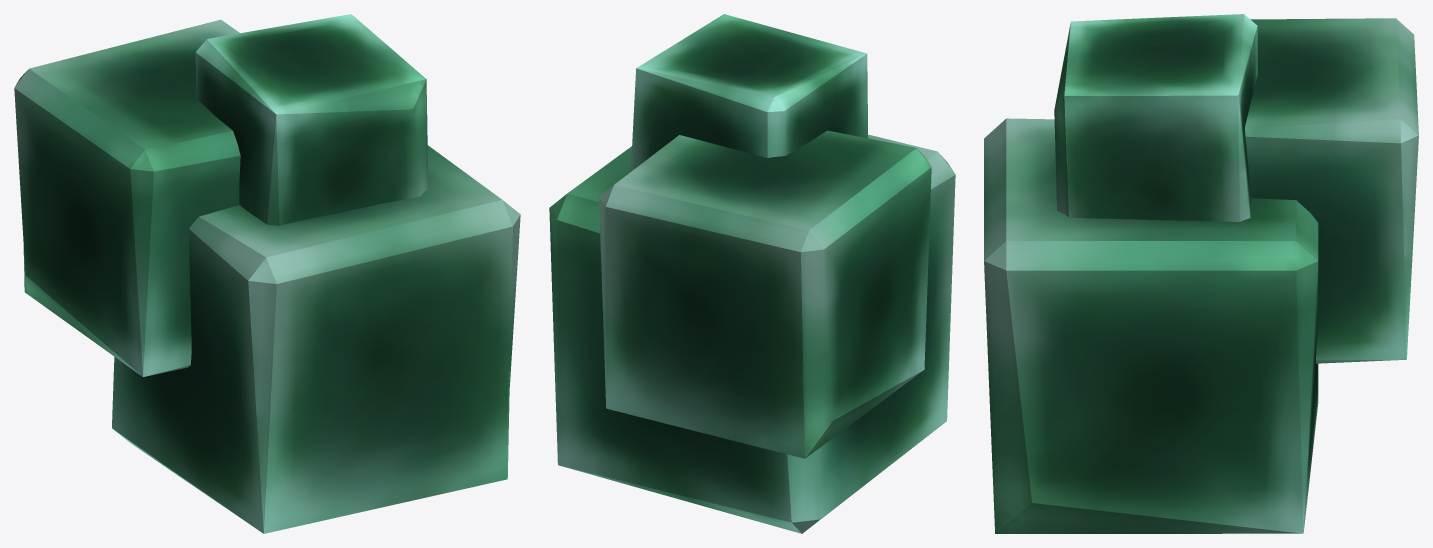
The model's file is CubeStone.fbx.
3 views of the same model, side by side, from view 1: azimuth 30°, elevation 25°; view 2: azimuth 150°, elevation 25°; view 3: azimuth 270°, elevation 25° (orthographic). The views are drawn at different scales.
Visible parts, largest first — view 1: CubeStone_Model; view 2: CubeStone_Model; view 3: CubeStone_Model.
Part boxes in pixels (left/top/right/bottom): CubeStone_Model: left=14, top=14, right=520, bottom=533; CubeStone_Model: left=549, top=14, right=955, bottom=533; CubeStone_Model: left=984, top=14, right=1418, bottom=533.
Size of the model in its own units: 146 by 177 by 160.
Materials: 1 (1 with a texture image).
